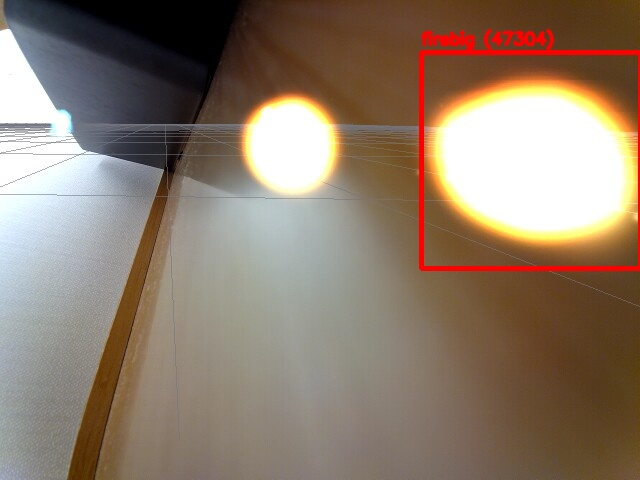firebig: (421, 52, 640, 268)
